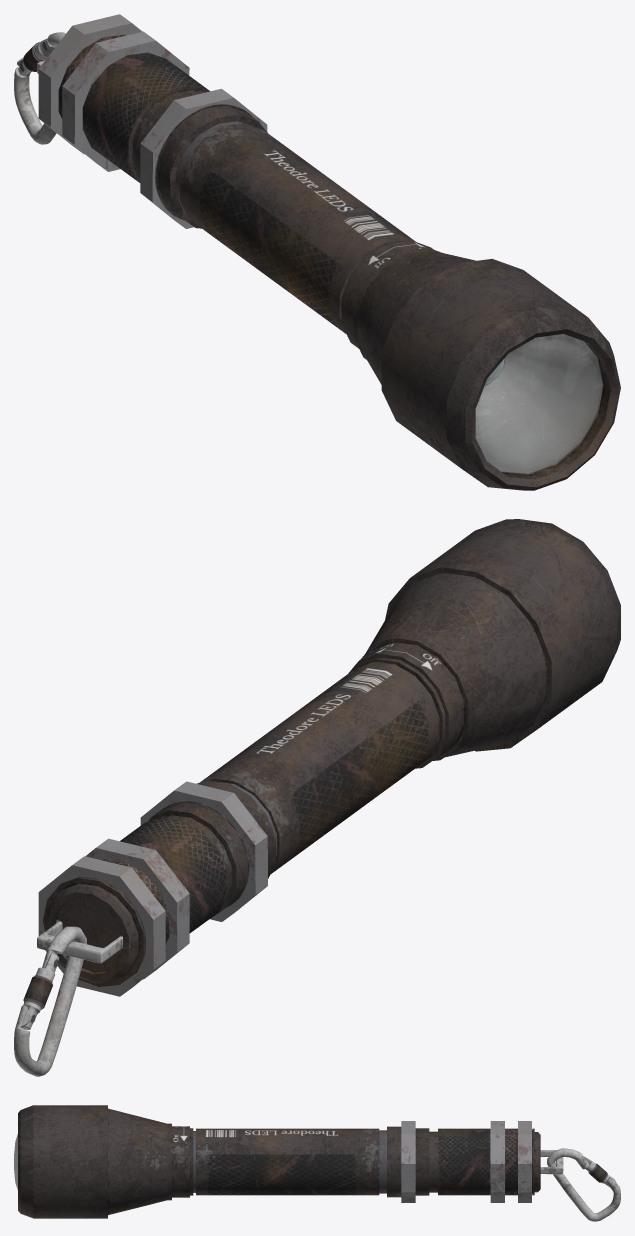
Rendered from flashlight.glb.
The picture shows the model from 3 angles, top to bottom: view 1: azimuth 30°, elevation 25°; view 2: azimuth 150°, elevation 25°; view 3: azimuth 270°, elevation 25°; orthographic projection. The views are drawn at different scales.
Visible parts, largest first — view 1: Flashlight_low; view 2: Flashlight_low; view 3: Flashlight_low.
Part boxes in pixels (left/top/right/bottom): Flashlight_low: left=14, top=14, right=620, bottom=490; Flashlight_low: left=14, top=519, right=620, bottom=1076; Flashlight_low: left=14, top=1105, right=620, bottom=1221.
Bounding box in the file's own units: 0.1506 × 0.1631 × 0.8117.
Materials: 1 (1 with a texture image).
